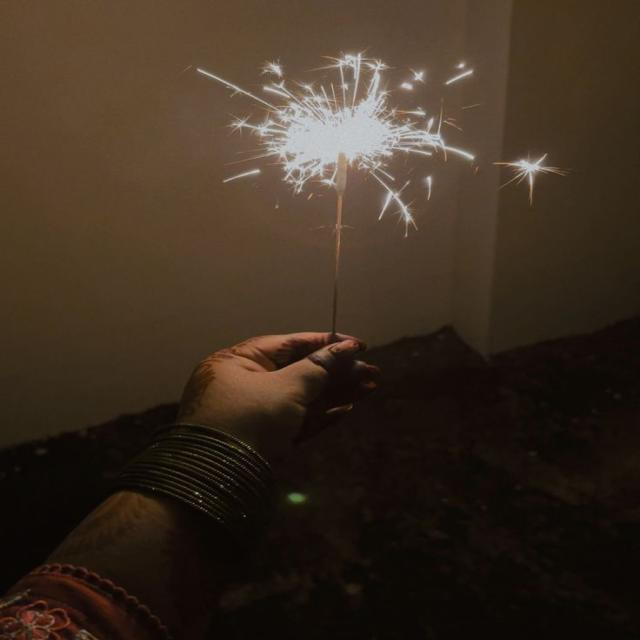fire: (282, 98, 390, 164)
